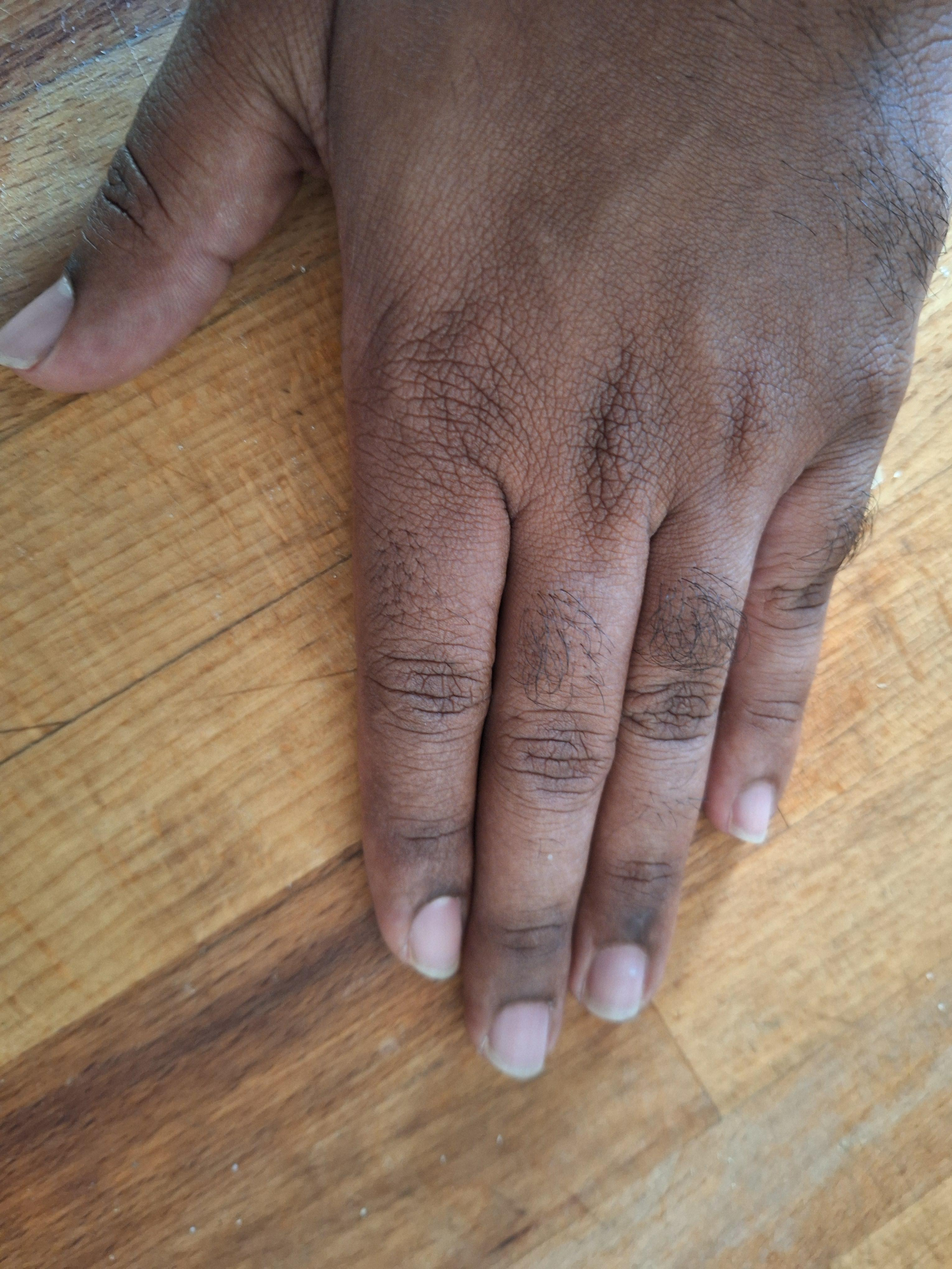Fingernail: (0, 276, 75, 370), (484, 1002, 549, 1080), (584, 944, 649, 1021), (409, 896, 462, 981), (730, 781, 772, 844)
